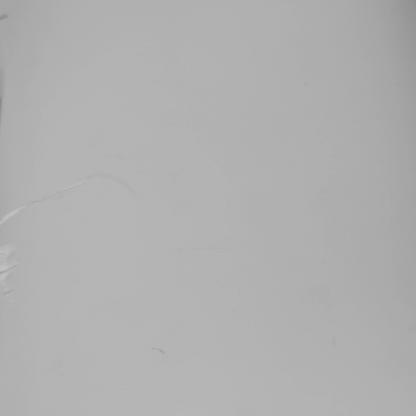sunshang: (1, 191, 72, 229), (1, 240, 19, 311)
